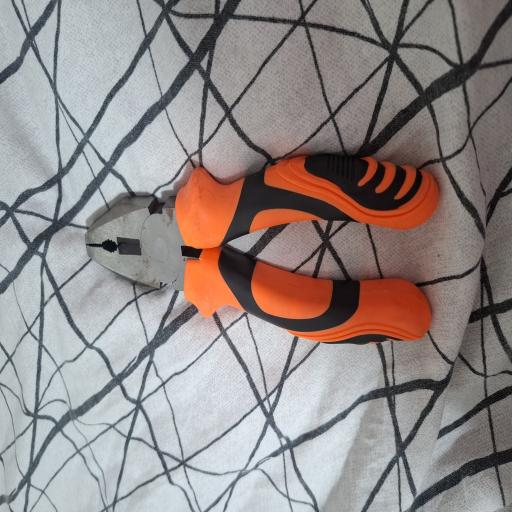alicate: (82, 144, 438, 354)
